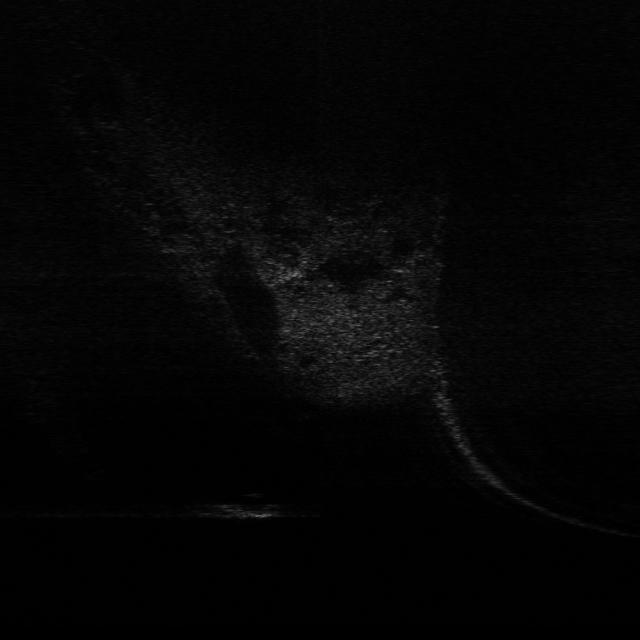cube: (196, 492, 288, 523)
